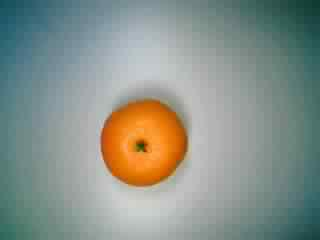orange: (95, 91, 190, 193)
